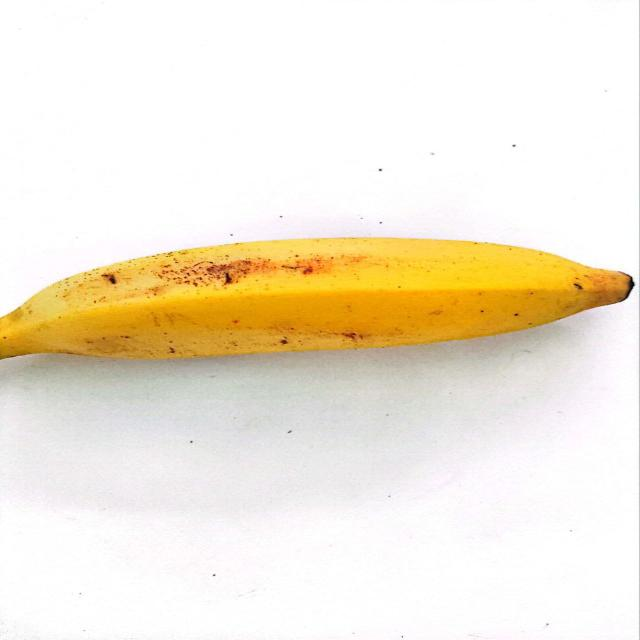fresh_banana: (0, 238, 635, 368)
